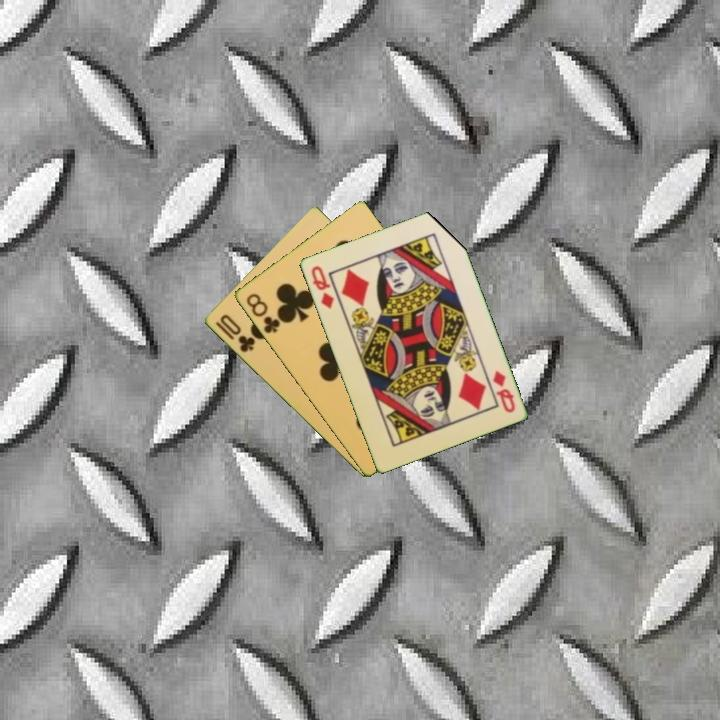10c: (216, 311, 258, 355)
8c: (242, 290, 283, 336)
Qd: (307, 262, 337, 312), (488, 366, 518, 416)
